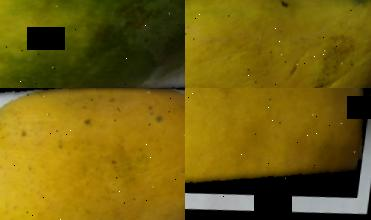PartiallyRipe: (0, 0, 185, 88)
Ripe: (0, 88, 185, 220), (185, 88, 371, 204), (185, 0, 371, 88)
